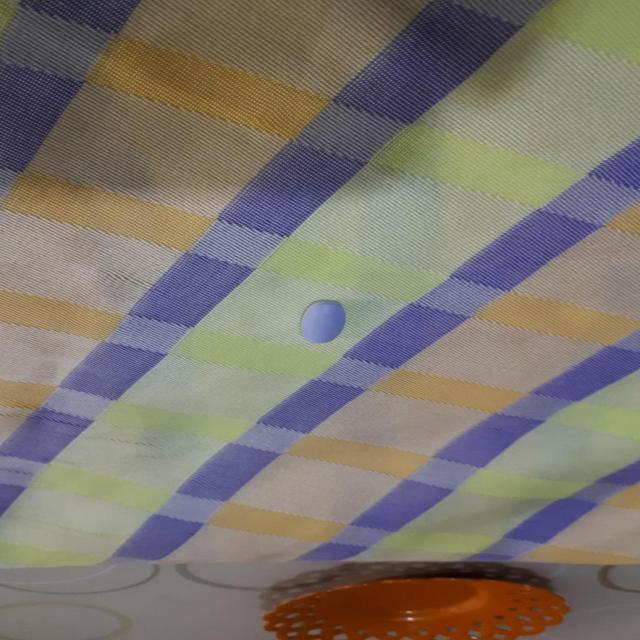pill: (296, 296, 352, 348)
